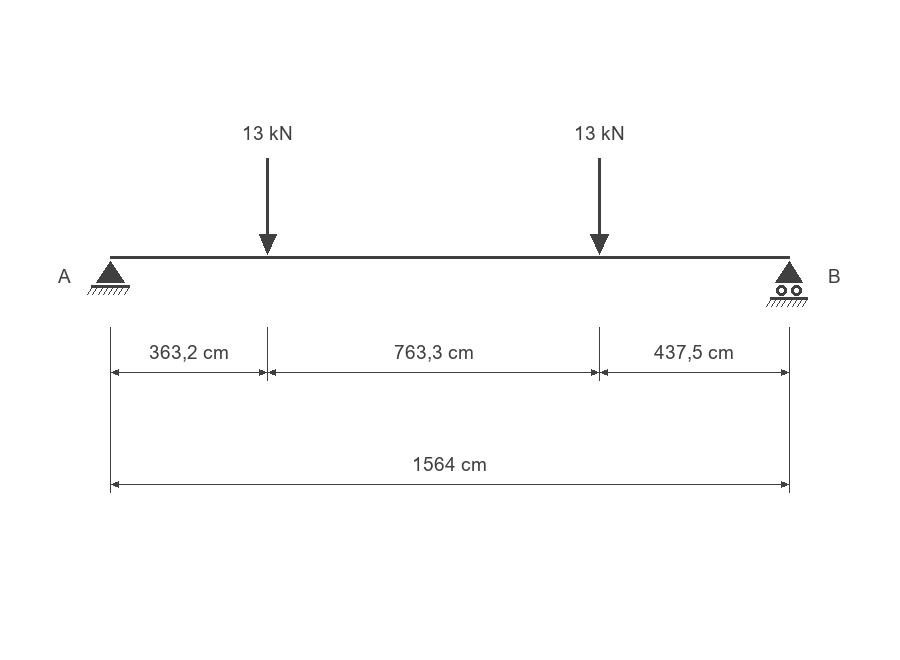pin_support: (87, 261, 130, 295)
point_load: (590, 158, 609, 255), (259, 158, 277, 255)
roller_support: (766, 261, 808, 307)
